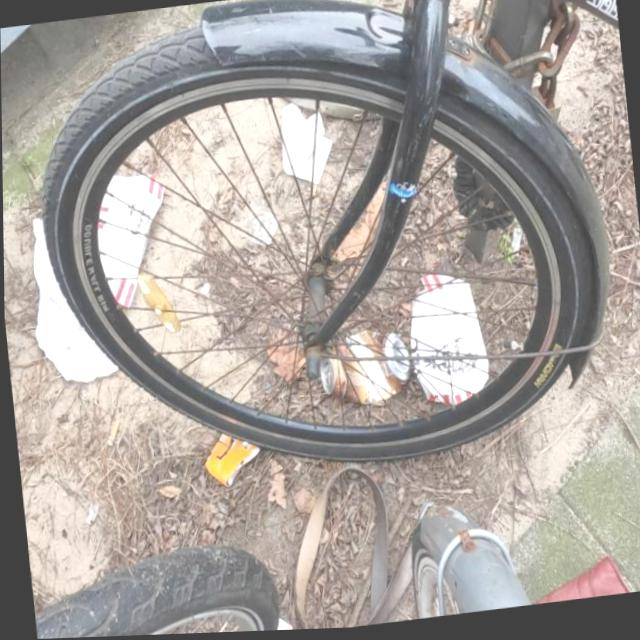Can-Metal: (314, 325, 411, 412)
Paper: (20, 209, 118, 388), (400, 269, 490, 414), (89, 168, 175, 312), (275, 98, 336, 191), (198, 428, 261, 491)
Plastic: (231, 198, 278, 250)
